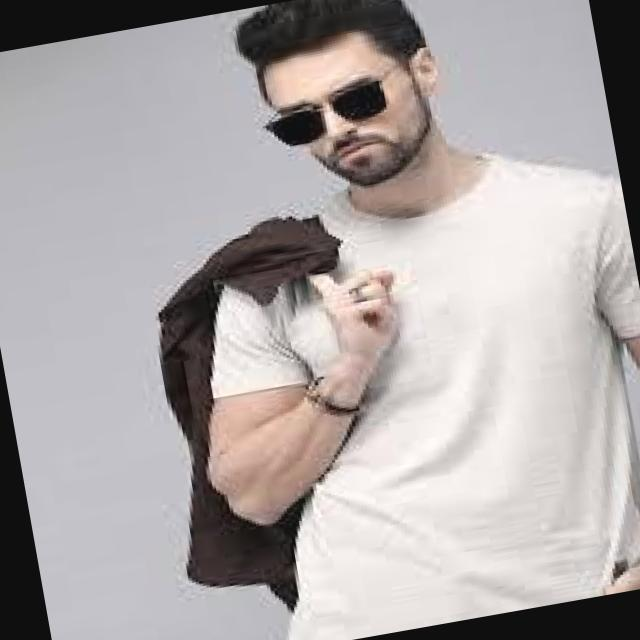Tshirt: (176, 129, 640, 640)
